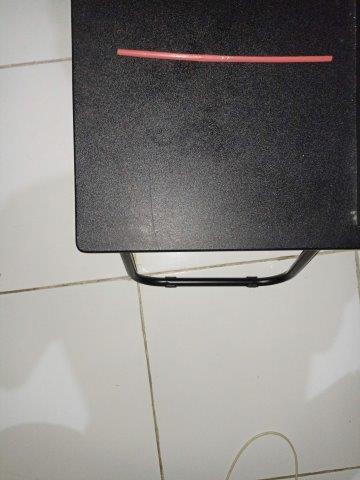sedotan: (117, 48, 332, 63)
